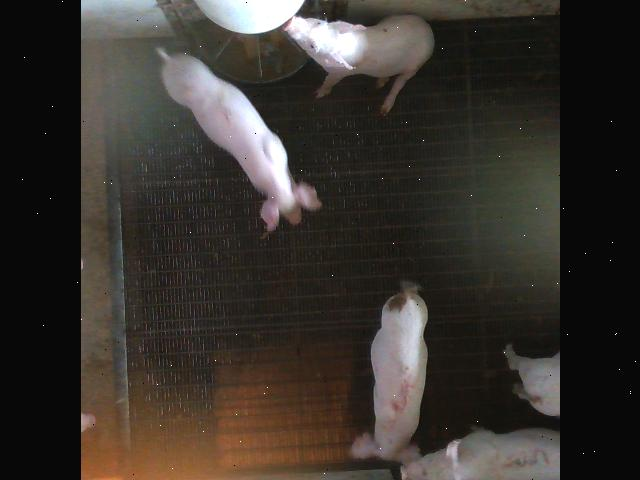pig-3: (396, 429, 560, 480)
pig-5: (352, 282, 428, 460)
